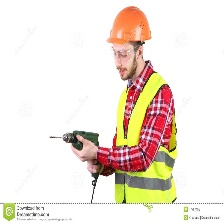helmet: (105, 8, 155, 52)
person: (101, 4, 181, 203)
vest: (109, 76, 181, 206)
